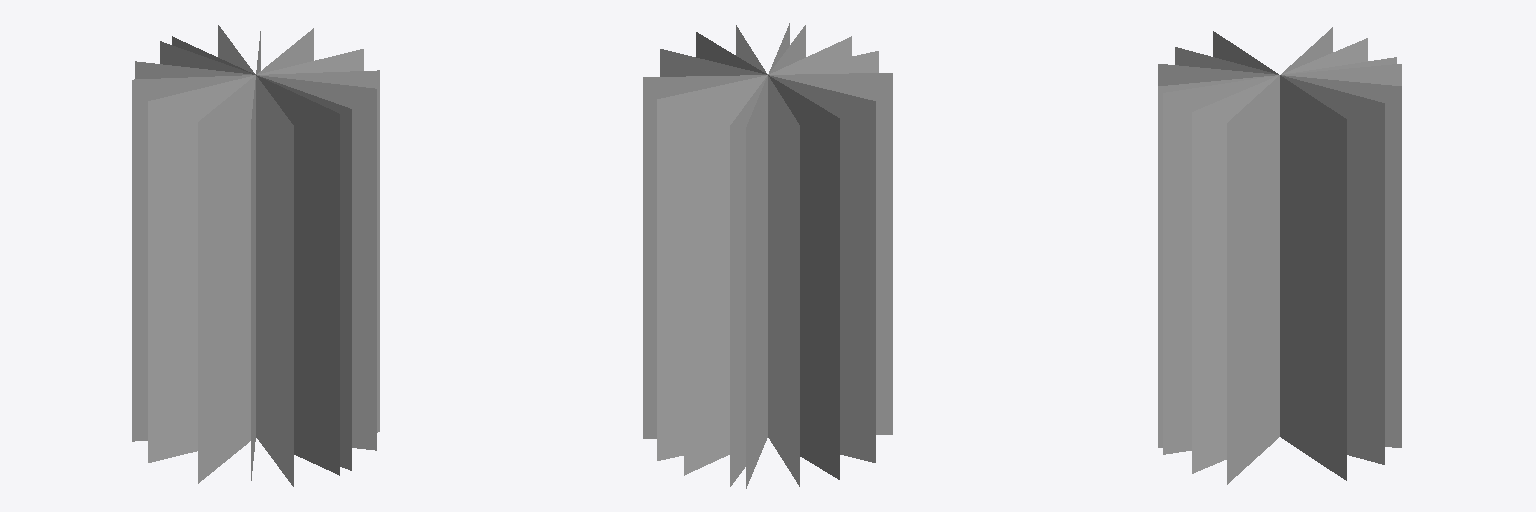
Rendered from tree_2.obj.
The picture shows the model from 3 angles: view 1: azimuth 30°, elevation 25°; view 2: azimuth 150°, elevation 25°; view 3: azimuth 270°, elevation 25°; orthographic projection.
Parts seen in each view (by area): view 1: cube; view 2: cube; view 3: cube.
Boxes of the visible parts, box(x1,y1,x2,y2) form: cube: box(132, 25, 379, 486); cube: box(643, 23, 892, 488); cube: box(1158, 27, 1401, 484).
Bounding box in the file's own units: 4.12 × 6.6 × 4.03.